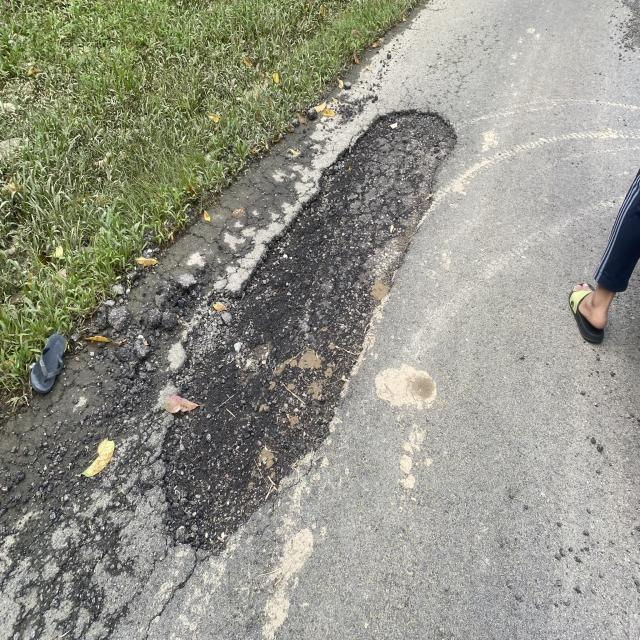pothole: (145, 31, 498, 573)
